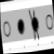correct: (15, 16, 27, 40)
not correct: (27, 5, 41, 43)
